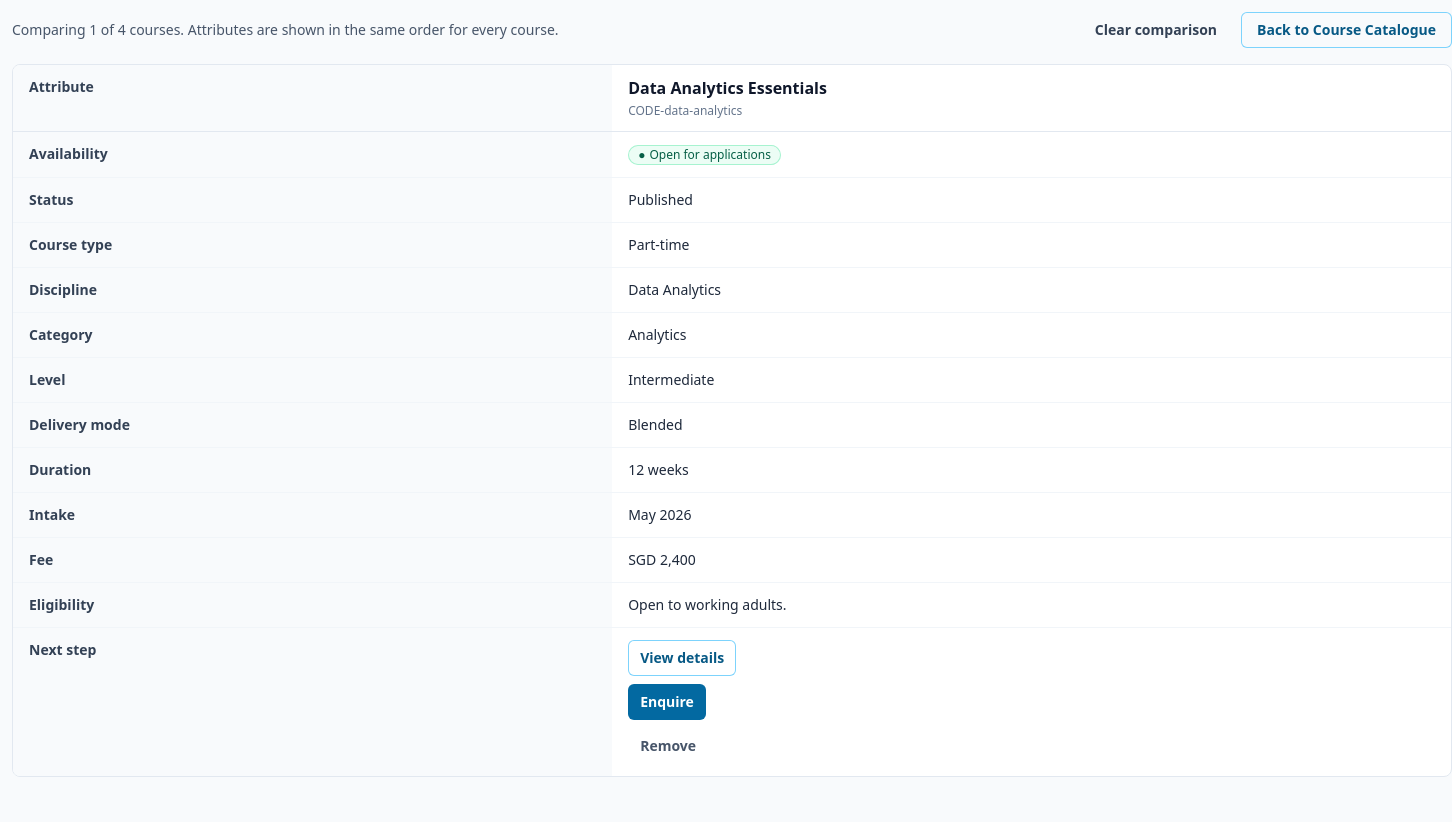
ComparisonView with a selection › falls back to the empty state once the last course is removed (AC-408)
The image size is (1452, 822).
Click the button with aria-label "remove data analytics essentials".
click(668, 746)  # box x1=628 y1=728 x2=708 y2=764
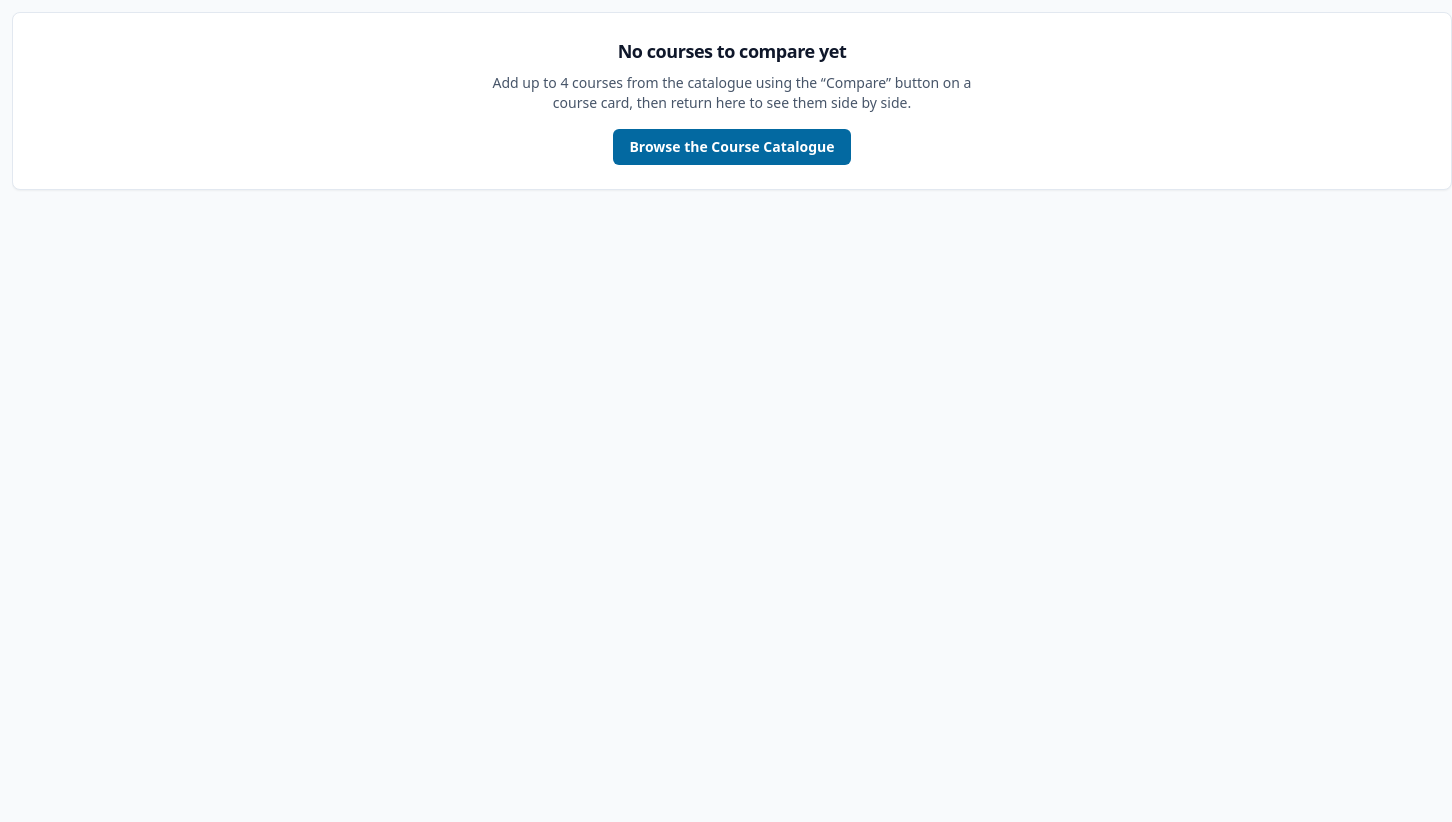
Expected: the heading "No courses to compare yet" is shown, x1=618 y1=39 x2=846 y2=63
